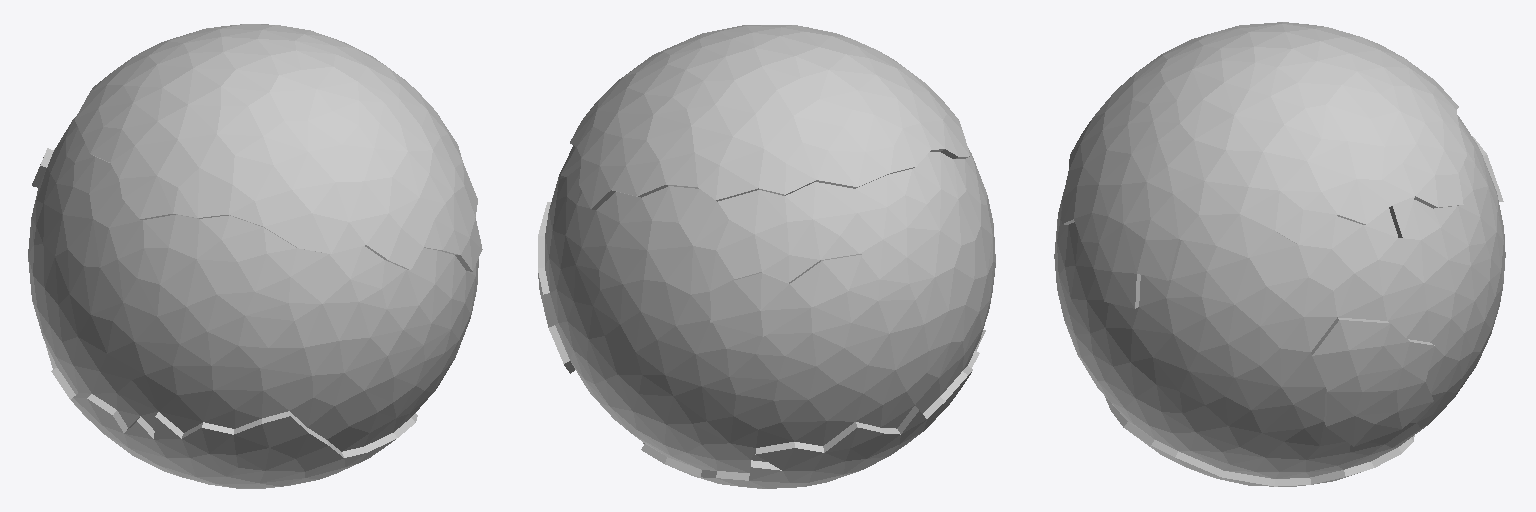
The model's file is planetA.obj.
The picture shows the model from 3 angles: view 1: azimuth 30°, elevation 25°; view 2: azimuth 150°, elevation 25°; view 3: azimuth 270°, elevation 25°; orthographic projection.
Parts seen in each view (by area): view 1: Planet_1_Cube; view 2: Planet_1_Cube; view 3: Planet_1_Cube.
Part boxes in pixels (bbox=[...]): Planet_1_Cube: bbox=[28, 24, 482, 488]; Planet_1_Cube: bbox=[538, 25, 995, 488]; Planet_1_Cube: bbox=[1054, 22, 1505, 486].
Bounding box in the file's own units: 2.09 × 2.13 × 2.07.